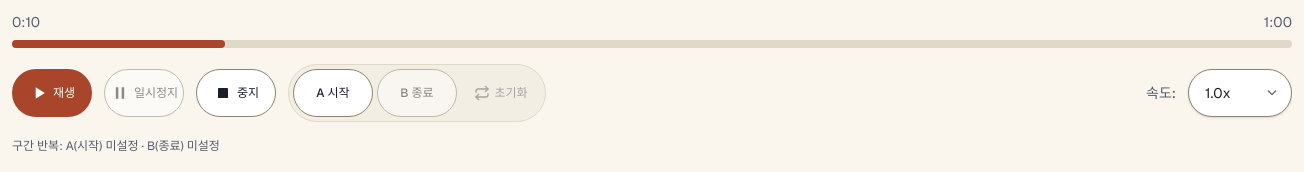
it: PlaybackControls › makes learner-selected A and B markers first-class controls
The width and height of the screenshot is (1304, 172).
Expected: the button titled "구간 끝 B 설정" is disabled, x1=377 y1=69 x2=457 y2=117
What coordinates should you click on to do the following:
click the button titled "구간 시작 A 설정"
I would click on:
 (333, 93)
Its box is x1=293 y1=69 x2=373 y2=117.
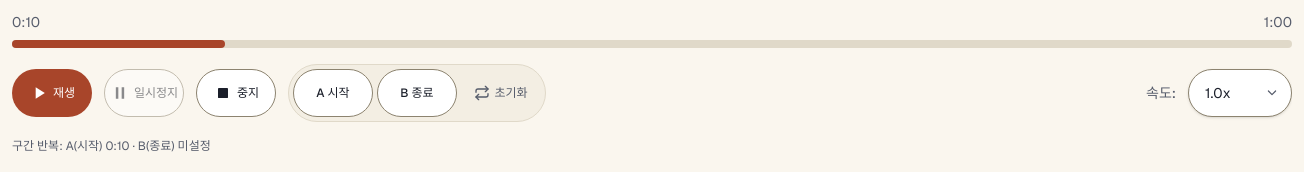
Expected: the button titled "구간 끝 B 설정" is enabled
What coordinates should you click on to do the following:
click the button titled "구간 끝 B 설정"
I would click on:
 (417, 93)
Its box is x1=377 y1=69 x2=457 y2=117.
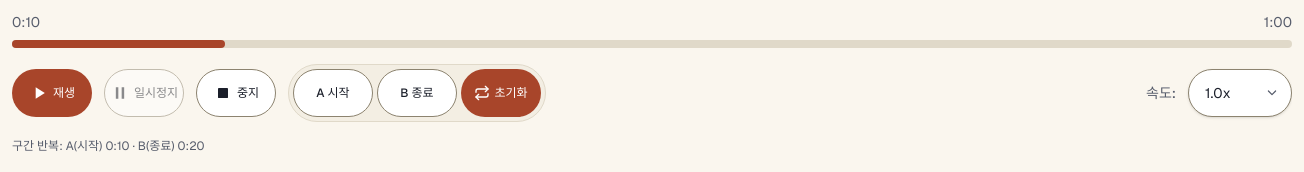
Expected: the button titled "A-B 구간 반복 초기화" has class "bg-accent"
What coordinates should you click on to do the following:
click the button titled "A-B 구간 반복 초기화"
I would click on:
 (501, 93)
Its box is x1=461 y1=69 x2=541 y2=117.
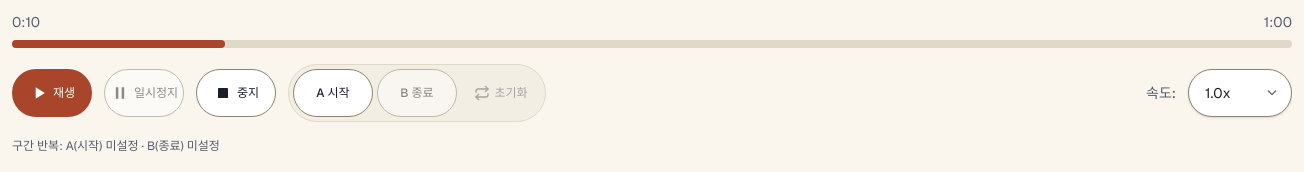
Expected: the button titled "구간 끝 B 설정" is disabled, x1=377 y1=69 x2=457 y2=117
